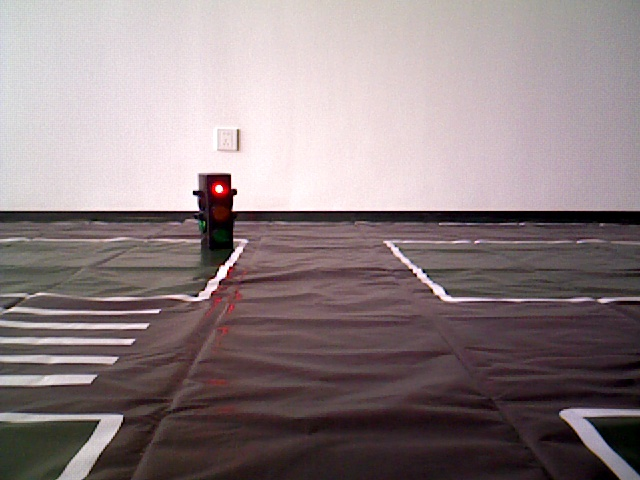red: (196, 177, 229, 248)
